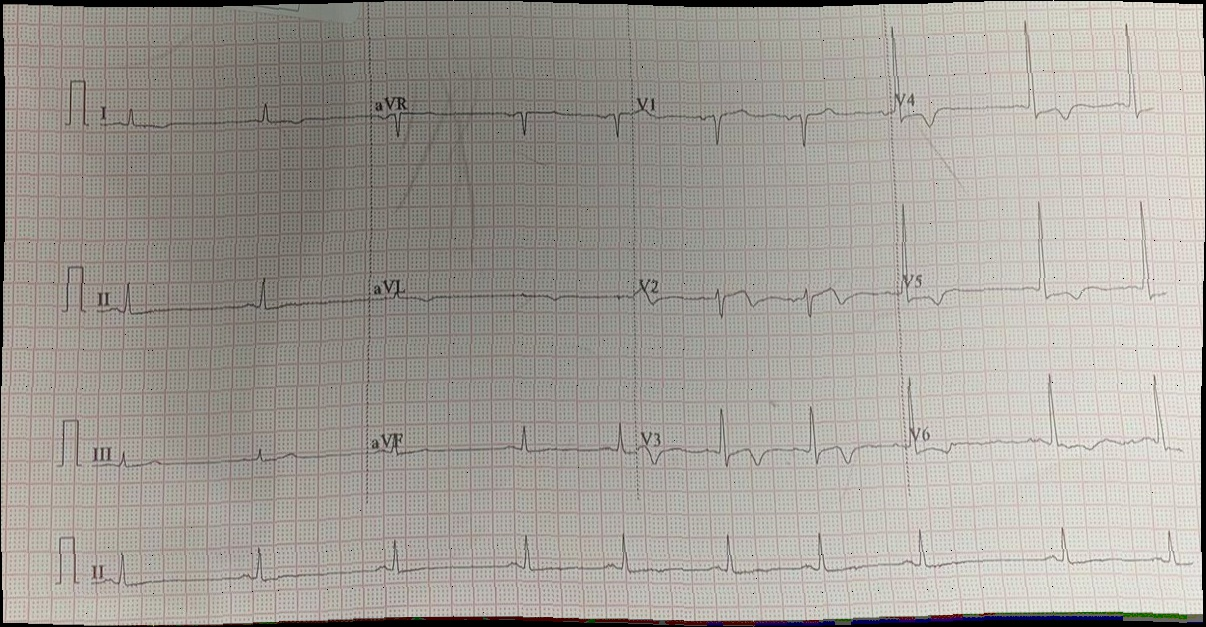Lead_I: (89, 81, 371, 148)
Lead_II: (89, 264, 367, 331)
Lead_III: (86, 420, 371, 487)
Lead_II_ext: (86, 529, 1201, 593)
Lead_V1: (630, 72, 890, 151)
Lead_V2: (635, 252, 898, 326)
Lead_V3: (638, 393, 907, 492)
Lead_V4: (881, 8, 1162, 146)
Lead_V5: (892, 190, 1184, 326)
Lead_V6: (903, 360, 1199, 485)
Lead_aVF: (372, 413, 641, 477)
Lead_aVL: (365, 255, 633, 319)
Lead_aVR: (370, 83, 633, 160)
